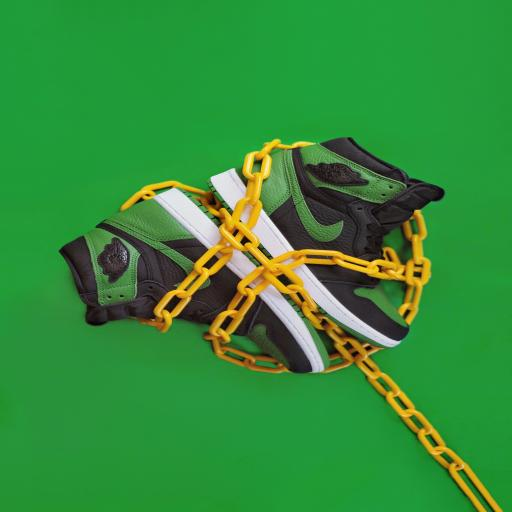shoe: (253, 138, 444, 261), (61, 189, 220, 325)
